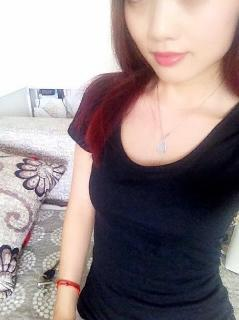short sleeve top: (68, 74, 239, 319)
